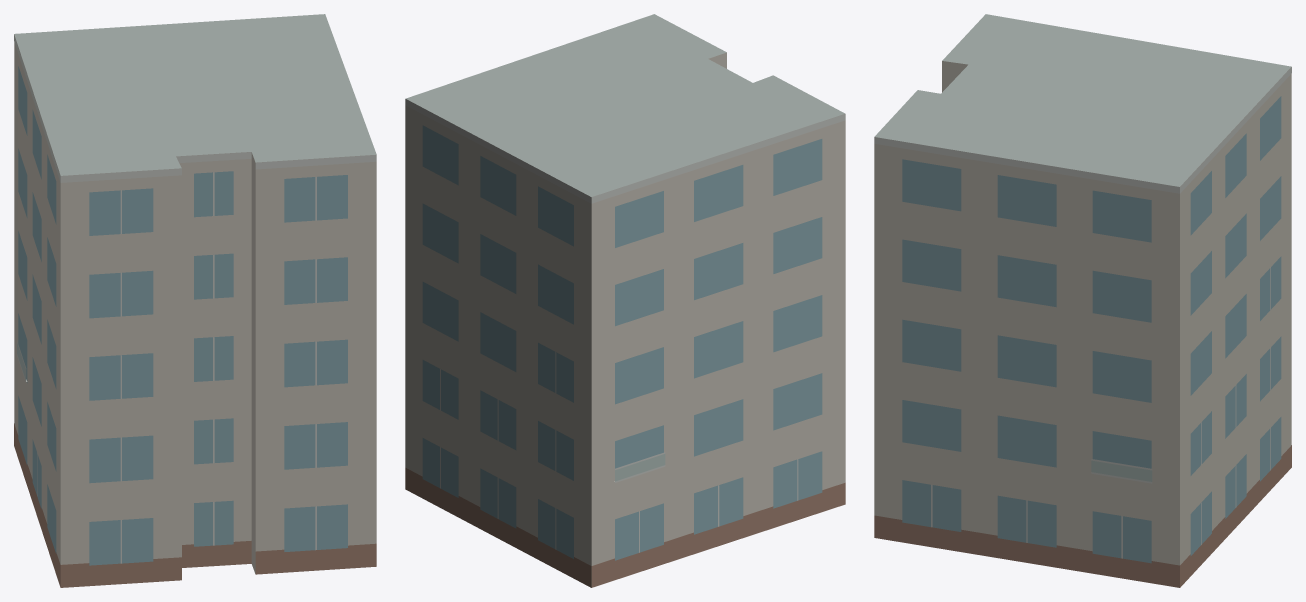
File: survey-upis-32968697.glb
3 renders of one model, left to right at view 1: azimuth 30°, elevation 25°; view 2: azimuth 150°, elevation 25°; view 3: azimuth 270°, elevation 25°, orthographic. The views are drawn at different scales.
Parts seen in each view (by area): view 1: survey-upis-32968697.tmp; view 2: survey-upis-32968697.tmp; view 3: survey-upis-32968697.tmp.
Part boxes in pixels (<box>): survey-upis-32968697.tmp: <box>14,14,376,587</box>; survey-upis-32968697.tmp: <box>405,14,845,587</box>; survey-upis-32968697.tmp: <box>874,14,1291,587</box>.
Size of the model in its own units: 13.34 by 14.4 by 13.6.
